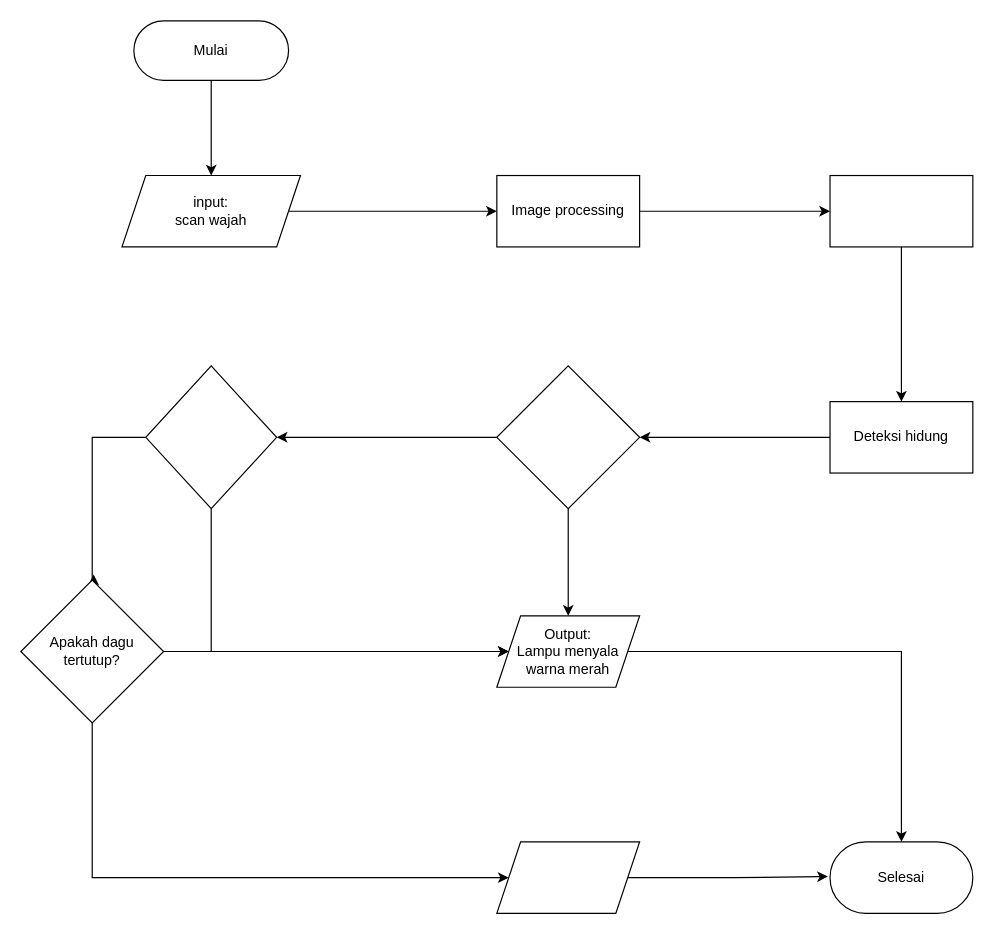
The diagram is 994 pixels wide and 934 high, and some of its shapes have lost their labels. The shapes that lost their labels are listed below. From the top down, each one's box as (x1, y1, x2, y2) in pixels, then its label:
(829, 174, 973, 247): Citra grayscale
(145, 365, 277, 509): Apakah mulut tertutup?
(496, 365, 640, 509): Apakah hidung tertutup?
(496, 841, 640, 913): Output: pintu terbuka
